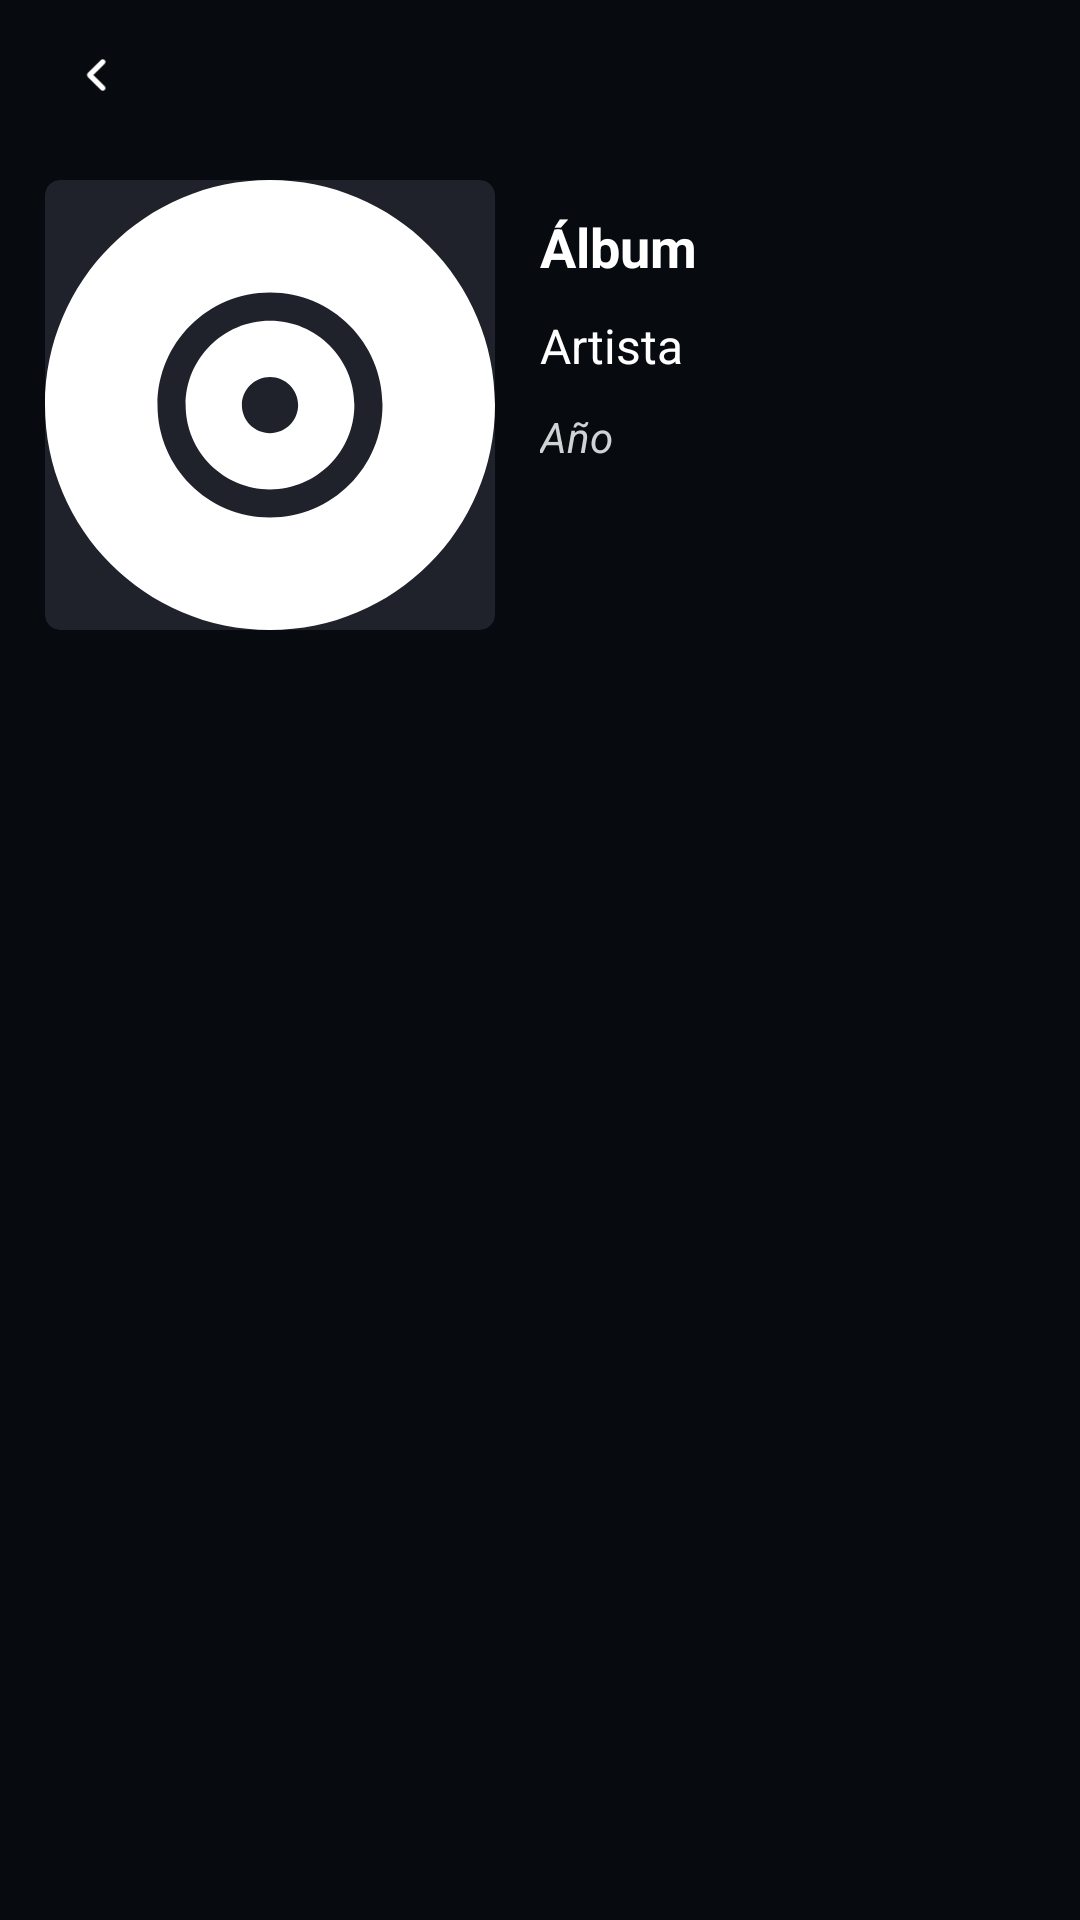

Icon click points for this 1080 × 1920 phone screenshot, format point (x, y):
angle left: point (96, 75)
